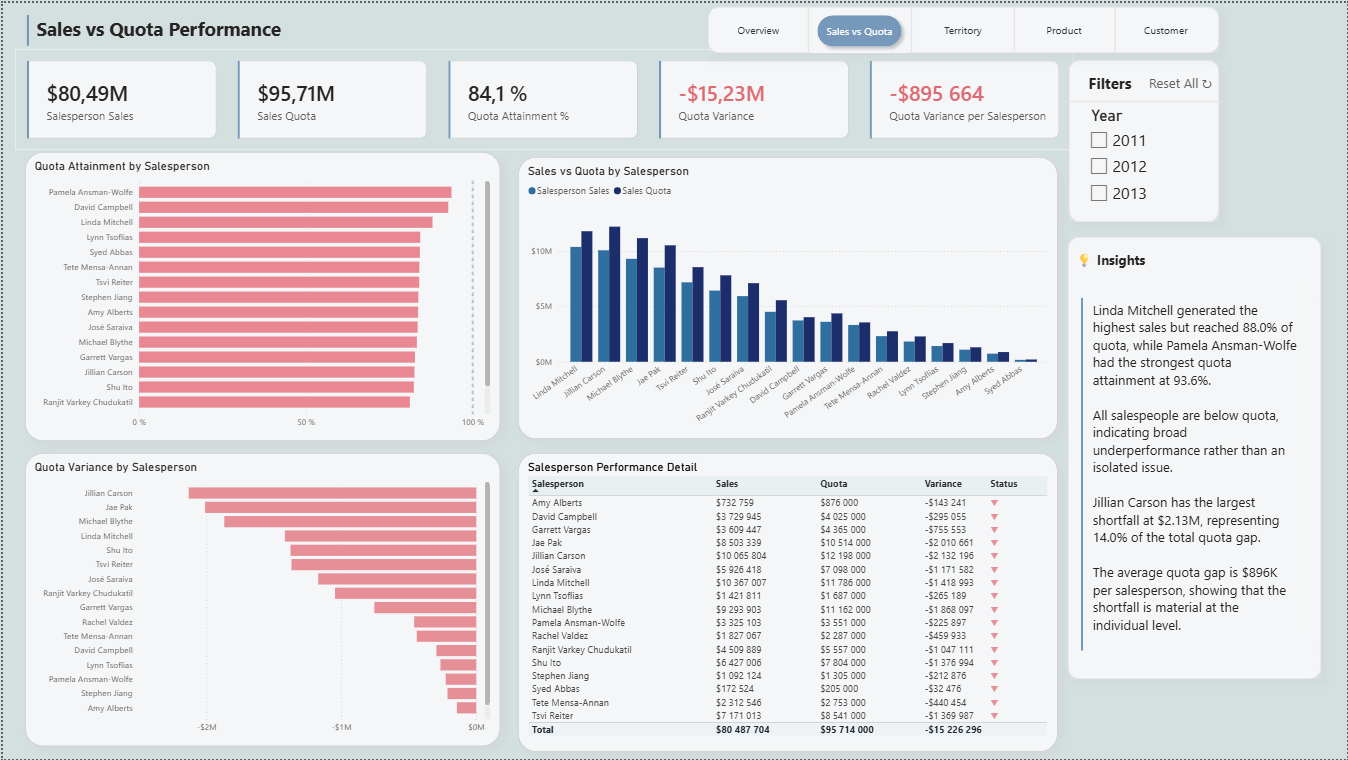

The page's visual inventory and layout, read from the dashboard file:
{"tool":"powerbi","page":{"name":"2: Sales vs Quota Performance","canvas":[1920,1080],"ordinal":1},"visuals":[{"type":"shape","box":[1007.1,6.3,730,65.6],"z":0,"group":"g6"},{"type":"group","id":"g1","title":"Group 4","box":[1013.2,8.9,715.1,62.6],"z":0,"group":"g5"},{"type":"actionButton","title":"Sales vs Quota","box":[1154.9,8.9,138.4,62.6],"z":0,"group":"g1"},{"type":"shape","box":[1521.4,334.3,361.4,631.4],"z":0,"group":"g4"},{"type":"shape","box":[0,0,1920,1080],"z":500},{"type":"shape","box":[1144.9,5.7,12.5,66],"z":1000,"group":"g5"},{"type":"actionButton","title":"Sales vs Quota","box":[1304.5,19.2,134.3,40],"z":1000,"group":"g1"},{"type":"cardVisual","fields":{"Data":["Measures (2).Salesperson Sales","Measures (2).Sales Quota","Measures (2).Quota Attainment %","Measures (2).Quota Variance","Measures (2).Quota Variance per Salesperson"]},"box":[16.7,65,1513.3,145],"z":1000},{"type":"shape","box":[1522.8,80.9,214.3,231.4],"z":1000,"group":"g2"},{"type":"shape","box":[1292.1,6.1,12.5,66.2],"z":2000,"group":"g5"},{"type":"actionButton","title":"Sales vs Quota","box":[1013.2,9.5,132.9,57.9],"z":2000,"group":"g1"},{"type":"clusteredColumnChart","title":"Sales vs Quota by Salesperson","fields":{"Category":["dim_salesperson.SalesPersonName"],"Y":["Measures (2).Salesperson Sales","Measures (2).Sales Quota"]},"box":[735.7,220,771.4,402.9],"z":2000},{"type":"textbox","box":[1527.2,349,202.4,42.6],"z":2000,"group":"g4"},{"type":"shape","box":[1438.9,6.1,12.5,66.2],"z":3000,"group":"g5"},{"type":"actionButton","title":"Sales vs Quota","box":[1448.8,19.2,134.3,40],"z":3000,"group":"g1"},{"type":"barChart","title":"Quota Attainment by Salesperson","fields":{"Category":["dim_salesperson.SalesPersonName"],"Y":["Measures (2).Quota Attainment %"]},"box":[31,212.9,678.6,412.9],"z":3000},{"type":"actionButton","title":"Sales vs Quota","box":[1594.2,19.4,134.1,40],"z":4000,"group":"g1"},{"type":"clusteredBarChart","title":"Quota Variance by Salesperson","fields":{"Category":["dim_salesperson.SalesPersonName"],"Y":["Measures (2).Quota Variance"]},"box":[31.4,642.9,678.6,418.6],"z":4000},{"type":"tableEx","title":"Salesperson Performance Detail","fields":{"Values":["dim_salesperson.SalesPersonName","Measures (2).Salesperson Sales","Measures (2).Sales Quota","Measures (2).Quota Variance Table","Measures (2).Salesperson Quota Status Icon"]},"box":[735.7,642.9,771.4,427.1],"z":5000},{"type":"group","id":"g2","title":"Group 1","box":[1521.4,80.9,217.1,231.4],"z":6000},{"type":"slicer","fields":{"Values":["dim_date.Year"]},"box":[1540.7,142.7,150,166.7],"z":6000,"group":"g2"},{"type":"cardVisual","fields":{"Data":["Text.Sales reached $109,85M"]},"box":[16.8,0.5,406.8,78.2],"z":7000},{"type":"textbox","box":[42.9,13.1,388.4,53.2],"z":8000},{"type":"textbox","box":[1539.5,94.1,94.8,43.3],"z":8000,"group":"g2"},{"type":"group","id":"g3","title":"Group 6","box":[1013.2,5.7,715.1,66.8],"z":9000,"group":"g6"},{"type":"shape","box":[1583,6.2,12.3,66.4],"z":9000,"group":"g3"},{"type":"actionButton","title":"Reset All   ↻","box":[1631.9,96,100,33.3],"z":9000,"group":"g2"},{"type":"group","id":"g4","title":"Group 2","box":[1521.4,334.3,361.4,631.4],"z":9000},{"type":"group","id":"g5","title":"Group 5","box":[1013.2,5.7,715.1,66.6],"z":10000,"group":"g3"},{"type":"shape","box":[1521.4,123.4,217.1,32.9],"z":10000,"group":"g2"},{"type":"cardVisual","fields":{"Data":["Text.P4 - Product Summary"]},"box":[1522.9,404.3,370,538.6],"z":11000},{"type":"tableEx","fields":{"Values":["Insights.Insights P2"]},"box":[1545.7,391.4,324.3,564.3],"z":12000},{"type":"group","id":"g6","title":"Group 7","box":[1007.1,5.7,730,65.7],"z":13000}]}

Visuals, with their boxes in screenshot pixels (x1, y1, x2, y2), scaled from the page's 1920x1080 canvas onto the 1348x760 screenshot:
shape: <box>707,4,1220,51</box>
"Group 4" group: <box>711,6,1213,50</box>
"Sales vs Quota" actionButton: <box>811,6,908,50</box>
shape: <box>1068,235,1322,680</box>
shape: <box>0,0,1347,759</box>
shape: <box>804,4,813,50</box>
"Sales vs Quota" actionButton: <box>916,14,1010,42</box>
cardVisual - Measures (2).Salesperson Sales x Measures (2).Sales Quota: <box>12,46,1074,148</box>
shape: <box>1069,57,1220,220</box>
shape: <box>907,4,916,51</box>
"Sales vs Quota" actionButton: <box>711,7,805,47</box>
"Sales vs Quota by Salesperson" clusteredColumnChart: <box>517,155,1058,438</box>
textbox: <box>1072,246,1214,276</box>
shape: <box>1010,4,1019,51</box>
"Sales vs Quota" actionButton: <box>1017,14,1111,42</box>
"Quota Attainment by Salesperson" barChart: <box>22,150,498,440</box>
"Sales vs Quota" actionButton: <box>1119,14,1213,42</box>
"Quota Variance by Salesperson" clusteredBarChart: <box>22,452,498,747</box>
"Salesperson Performance Detail" tableEx: <box>517,452,1058,753</box>
"Group 1" group: <box>1068,57,1221,220</box>
slicer - dim_date.Year: <box>1082,100,1187,218</box>
cardVisual - Text.Sales reached $109,85M: <box>12,0,297,55</box>
textbox: <box>30,9,303,47</box>
textbox: <box>1081,66,1147,97</box>
"Group 6" group: <box>711,4,1213,51</box>
shape: <box>1111,4,1120,51</box>
"Reset All   ↻" actionButton: <box>1146,68,1216,91</box>
"Group 2" group: <box>1068,235,1322,680</box>
"Group 5" group: <box>711,4,1213,51</box>
shape: <box>1068,87,1221,110</box>
cardVisual - Text.P4 - Product Summary: <box>1069,285,1329,664</box>
tableEx - Insights.Insights P2: <box>1085,275,1313,673</box>
"Group 7" group: <box>707,4,1220,50</box>
